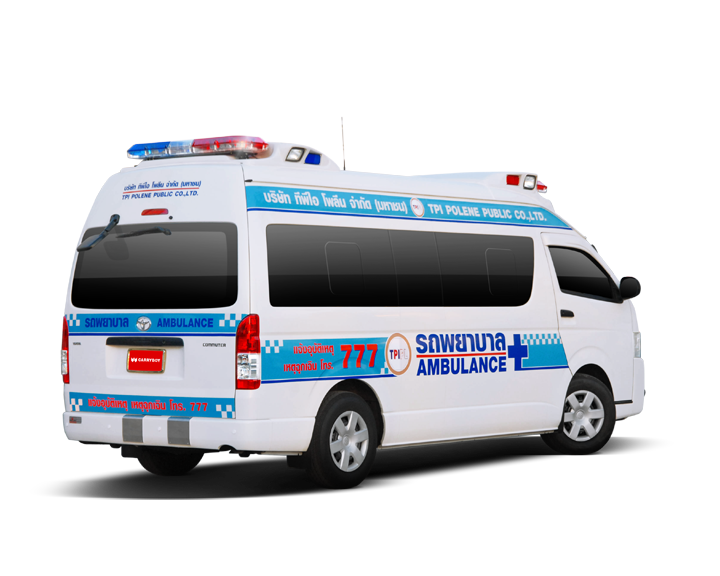van: (57, 133, 650, 491)
